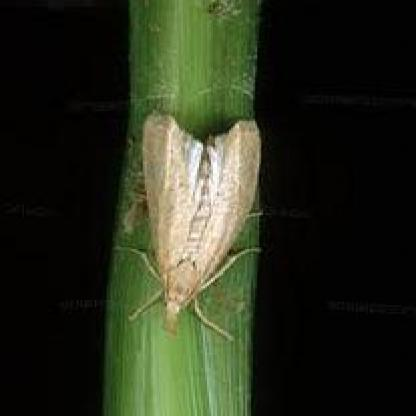stem-borer: (136, 110, 252, 334)
